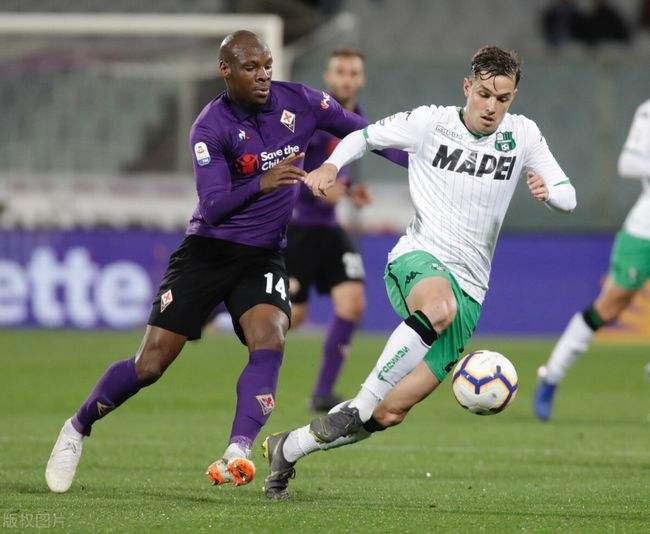football: (453, 349, 519, 415)
